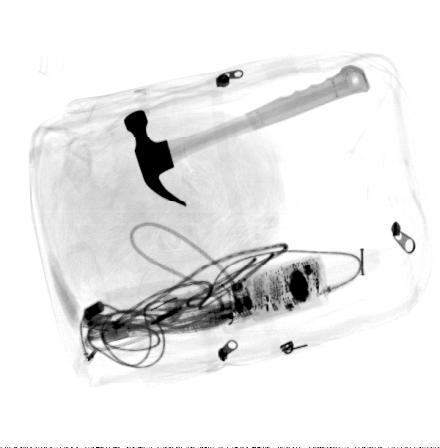Hammer: (122, 62, 374, 208)
